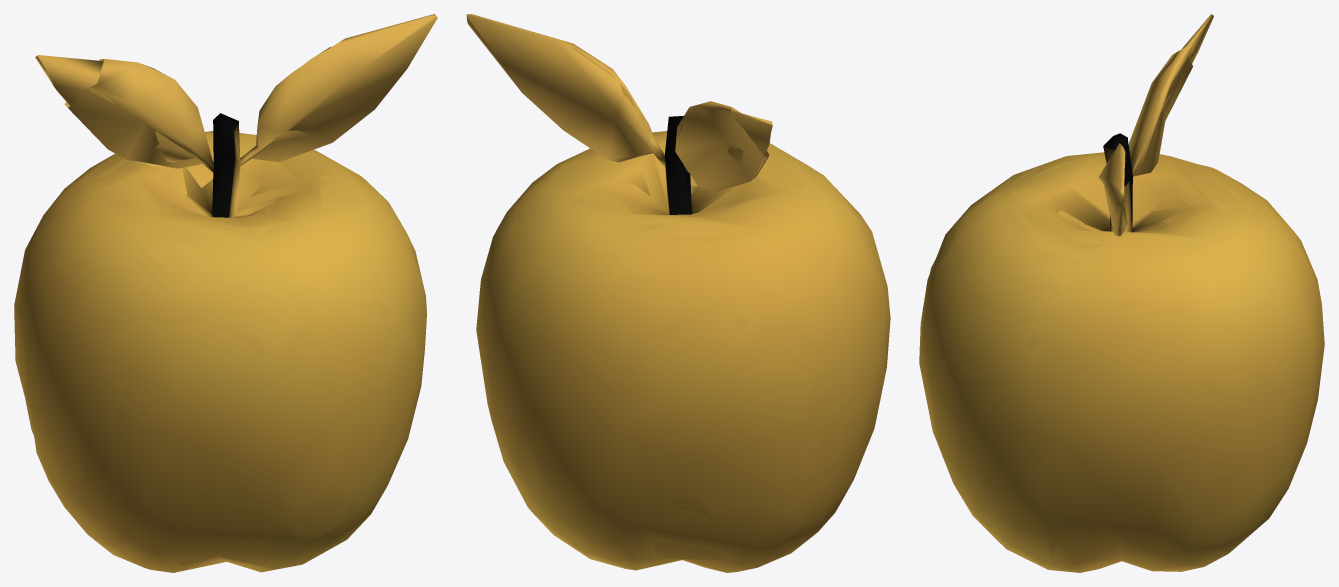
The model's file is gen3d-golden-apple-lod1.glb.
3 renders of one model, left to right at view 1: azimuth 30°, elevation 25°; view 2: azimuth 150°, elevation 25°; view 3: azimuth 270°, elevation 25°, orthographic. The views are drawn at different scales.
Visible parts, largest first — view 1: part_0; view 2: part_0; view 3: part_0.
Boxes of the visible parts, x1,y1,x2,y2 form: part_0: [14, 14, 437, 572]; part_0: [466, 14, 890, 572]; part_0: [919, 14, 1324, 572].
Size of the model in its own units: 0.8445 by 0.9993 by 0.776.
